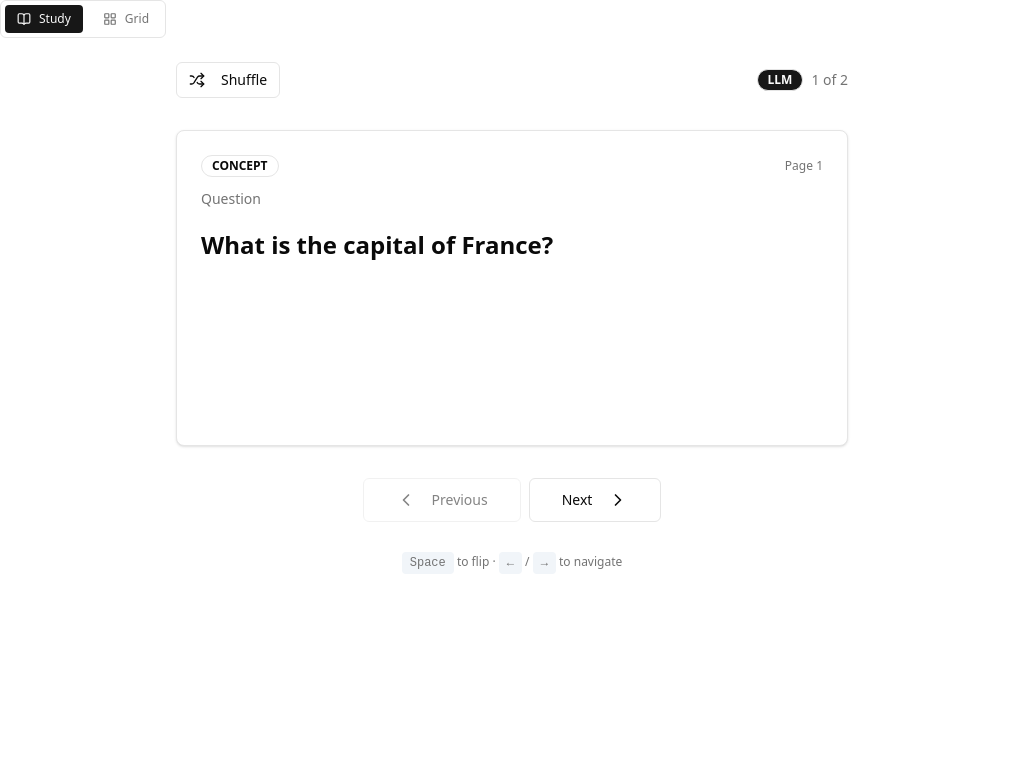
Test: FlashcardList › switches to grid view
Click the button "Grid".
click(126, 19)  # box [91, 5, 161, 33]
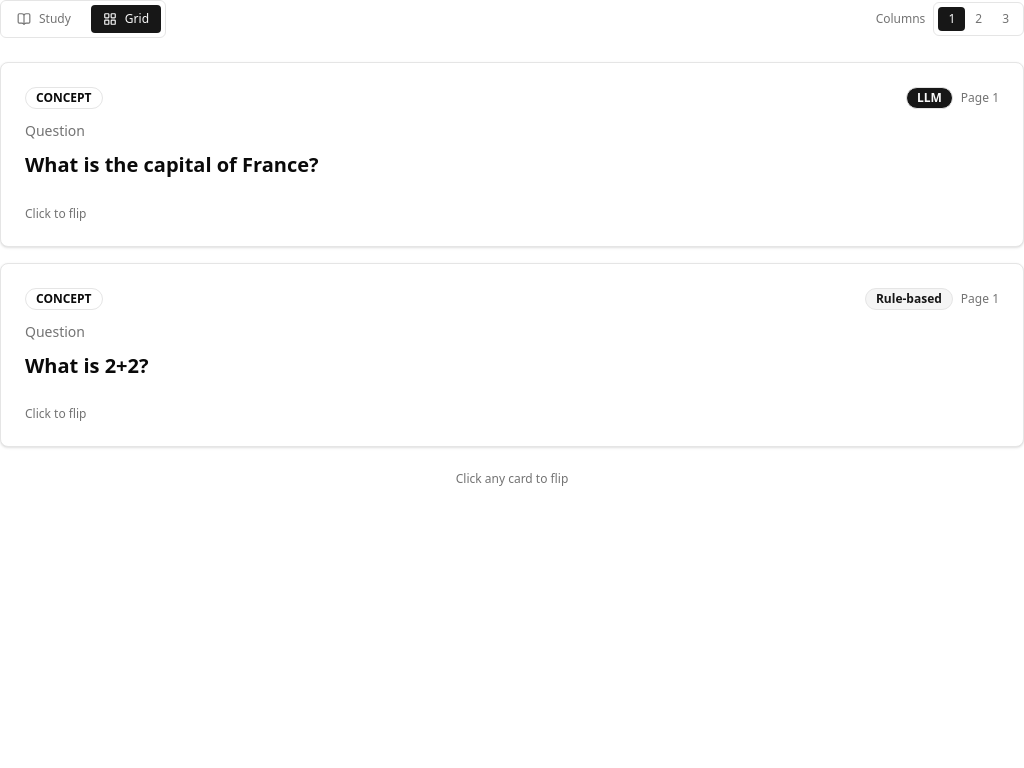
Check: the text "What is the capital of France?" is shown, box [25, 151, 318, 178]
Check: the text "What is 2+2?" is shown, box [25, 352, 148, 378]
